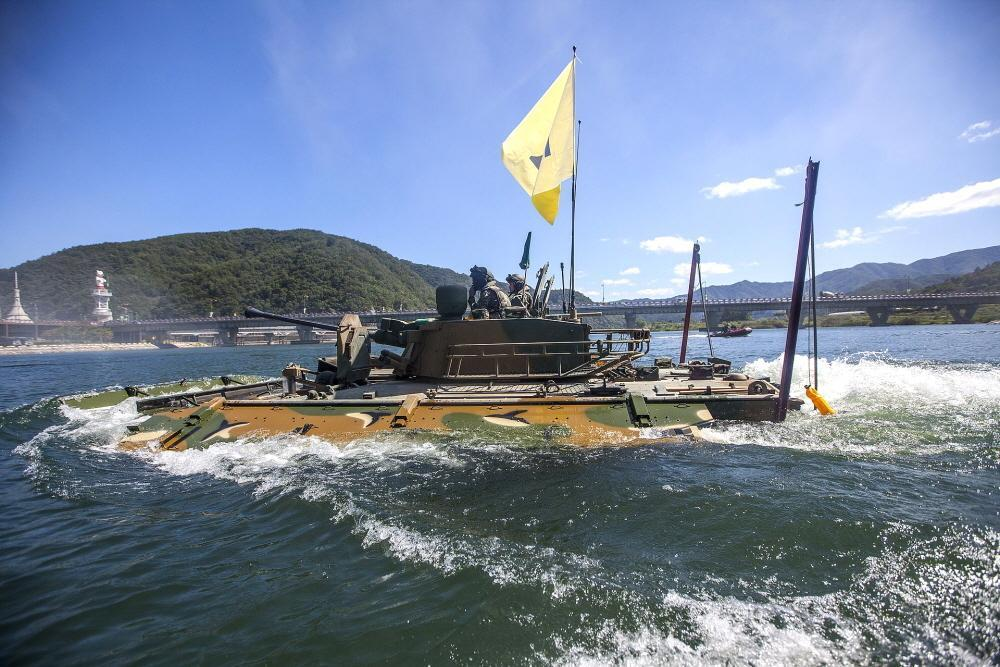MIL_IFV: (72, 154, 834, 463)
